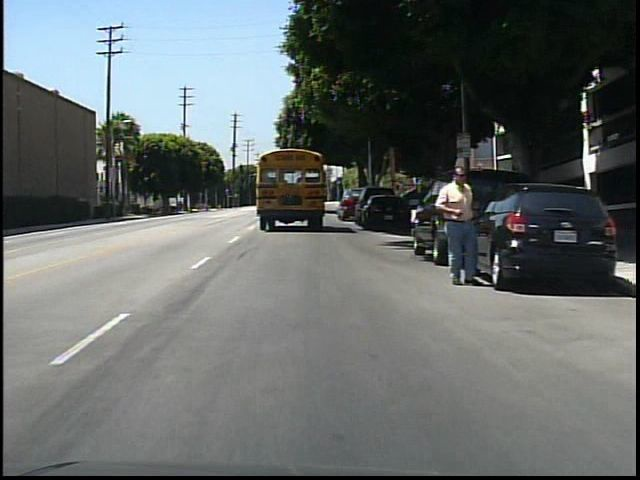person: (432, 160, 482, 289)
